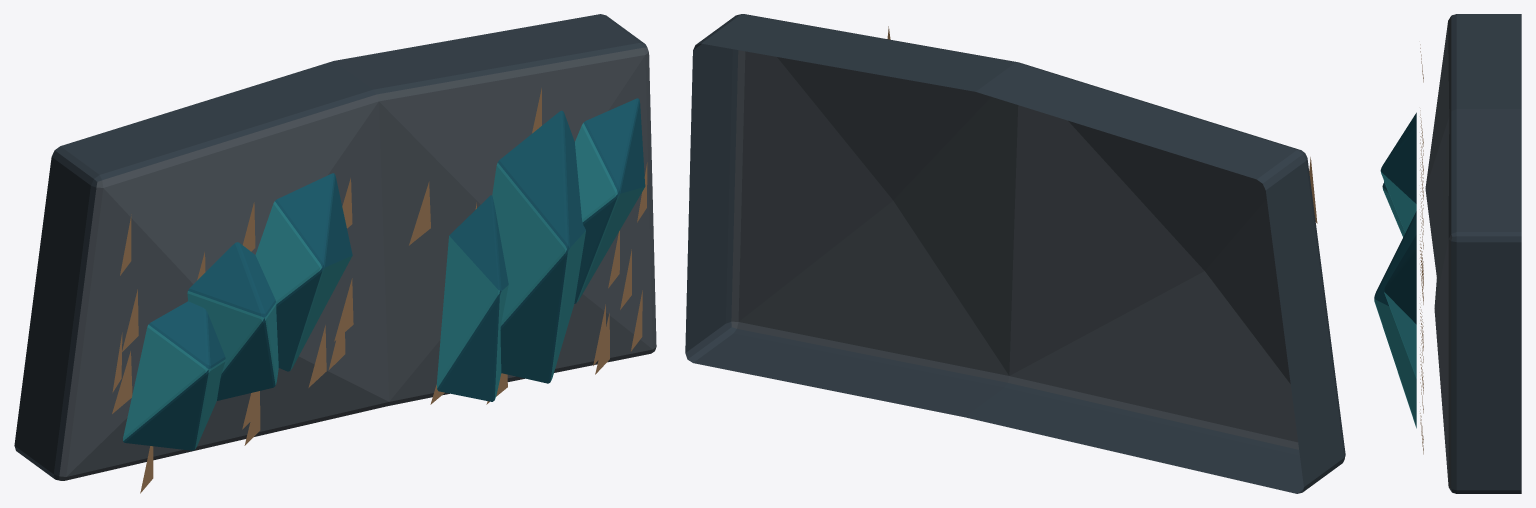
Rendered from Board_ring.fbx.
3 renders of one model, left to right at view 1: azimuth 30°, elevation 25°; view 2: azimuth 150°, elevation 25°; view 3: azimuth 270°, elevation 25°, orthographic. The views are drawn at different scales.
Visible parts, largest first — view 1: Art_ring_stone, Art_ring_mineral_1_1, Art_ring_mineral_0_2, Art_ring_mineral_1_0, Art_ring_mineral_0_0, Art_ring_mineral_0_1, Art_ring_mineral_1_2; view 2: Art_ring_stone; view 3: Art_ring_stone, Art_ring_mineral_0_2, Art_ring_mineral_1_2, Art_ring_mineral_1_1, Art_ring_mineral_0_0.
Boxes of the visible parts, x1,y1,x2,y2 form: Art_ring_stone: [14, 14, 656, 480]; Art_ring_mineral_1_1: [492, 110, 585, 383]; Art_ring_mineral_0_2: [255, 173, 352, 371]; Art_ring_mineral_1_0: [436, 195, 508, 401]; Art_ring_mineral_0_0: [123, 301, 225, 450]; Art_ring_mineral_0_1: [187, 242, 278, 400]; Art_ring_mineral_1_2: [574, 98, 645, 303]; Art_ring_stone: [685, 14, 1345, 493]; Art_ring_stone: [1425, 14, 1521, 493]; Art_ring_mineral_0_2: [1380, 112, 1416, 232]; Art_ring_mineral_1_2: [1384, 235, 1416, 378]; Art_ring_mineral_1_1: [1374, 211, 1416, 428]; Art_ring_mineral_0_0: [1382, 182, 1404, 237].
Size of the model in its own units: 202 by 106 by 51.96.
